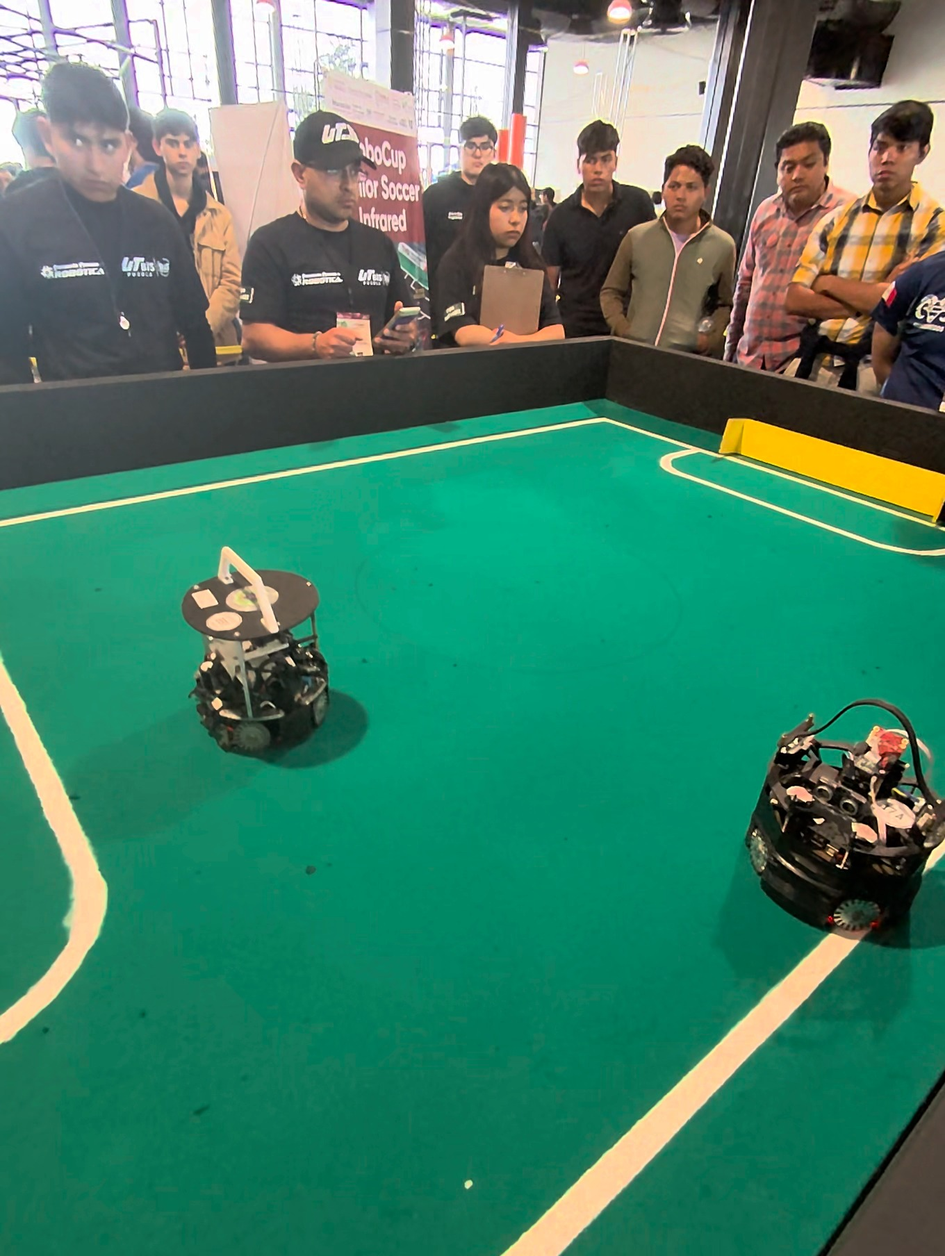Robot: (745, 682, 945, 956), (179, 527, 349, 769)
